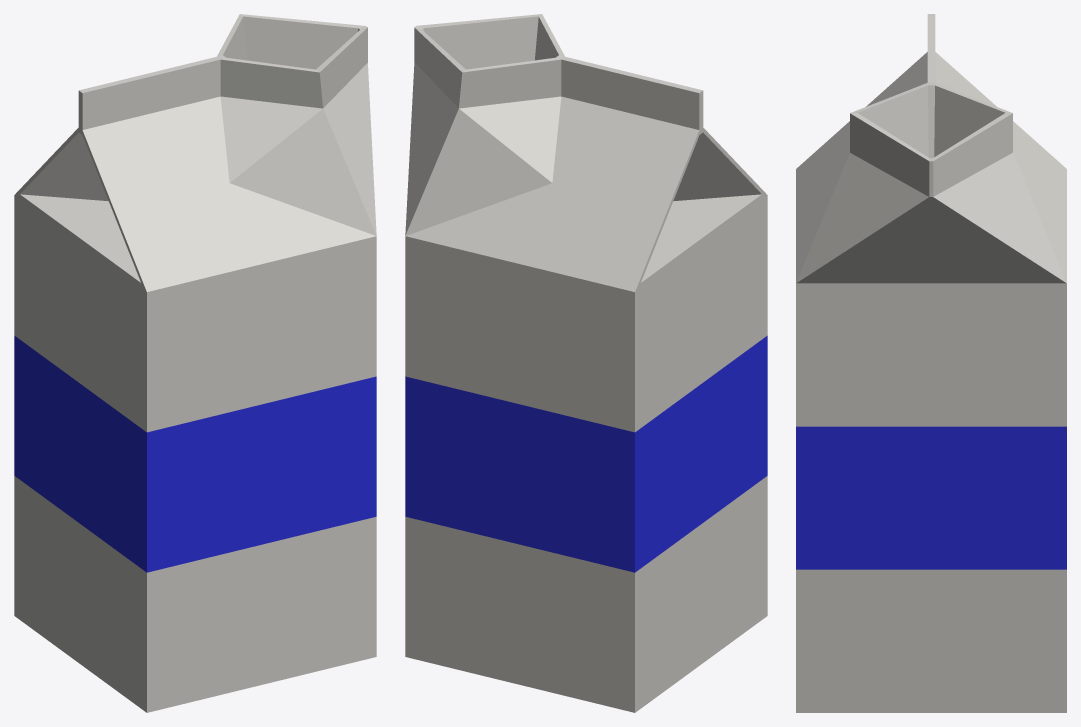
The model's file is Milk.fbx.
3 views of the same model, side by side, from view 1: azimuth 30°, elevation 25°; view 2: azimuth 150°, elevation 25°; view 3: azimuth 270°, elevation 25° (orthographic). The views are drawn at different scales.
Parts seen in each view (by area): view 1: MilkCarton; view 2: MilkCarton; view 3: MilkCarton.
Part boxes in pixels (bbox=[...]): MilkCarton: bbox=[14, 14, 376, 712]; MilkCarton: bbox=[405, 14, 767, 712]; MilkCarton: bbox=[796, 14, 1066, 712].
Size of the model in its own units: 249 by 477 by 200.
